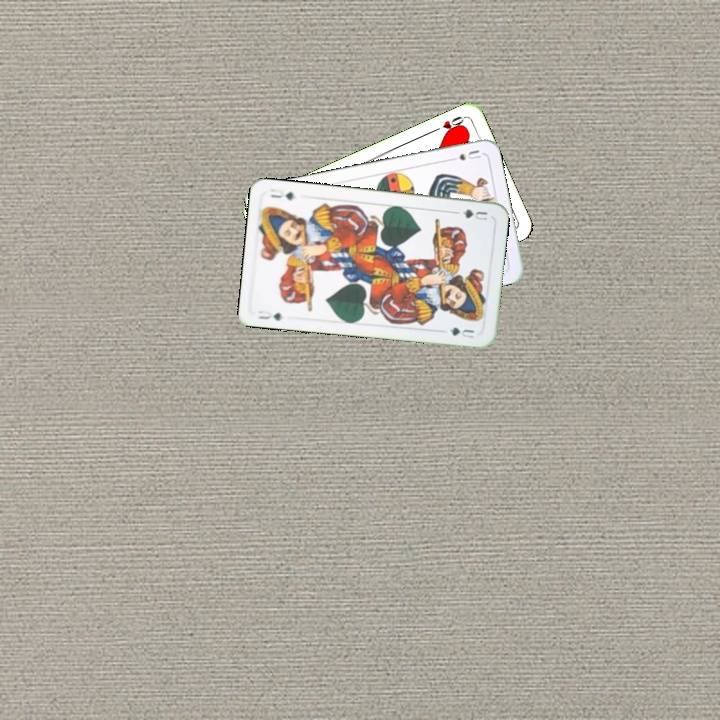GU: (458, 205, 490, 223), (254, 306, 284, 323)
HO: (429, 112, 467, 137)
SU: (444, 146, 483, 164)
